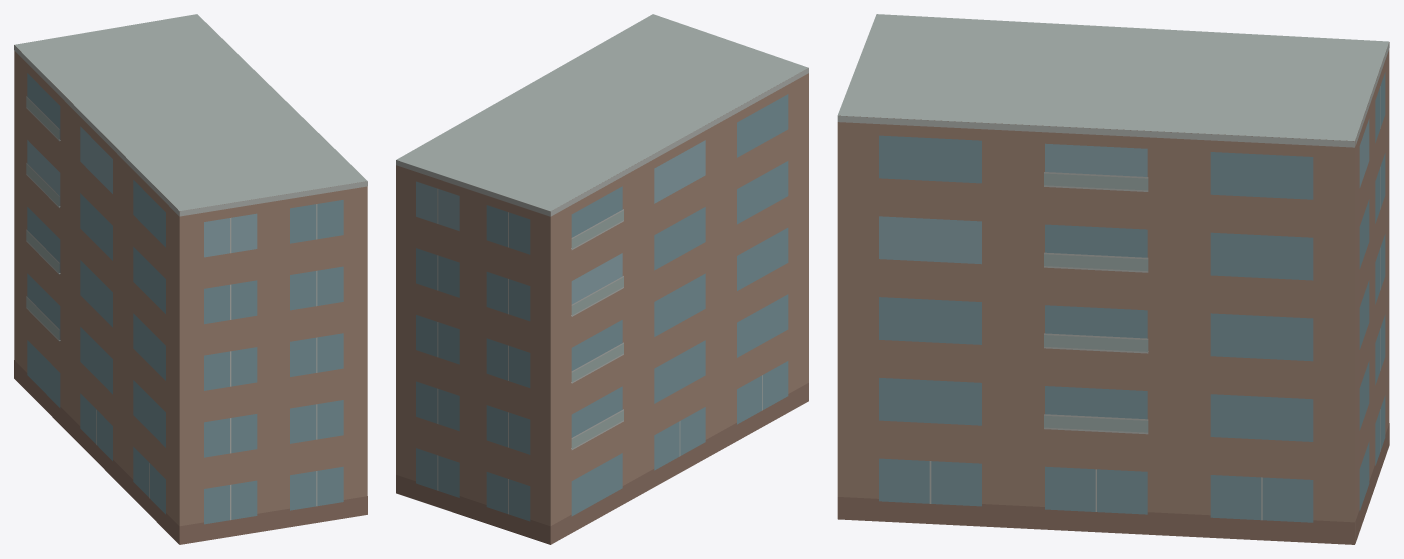
The model's file is survey-upis-32930246.glb.
3 views of the same model, side by side, from view 1: azimuth 30°, elevation 25°; view 2: azimuth 150°, elevation 25°; view 3: azimuth 270°, elevation 25° (orthographic). The views are drawn at different scales.
Visible parts, largest first — view 1: survey-upis-32930246.tmp; view 2: survey-upis-32930246.tmp; view 3: survey-upis-32930246.tmp.
Boxes of the visible parts, box(x1,y1,x2,y2) form: survey-upis-32930246.tmp: box(14, 14, 367, 544); survey-upis-32930246.tmp: box(396, 14, 808, 544); survey-upis-32930246.tmp: box(837, 14, 1389, 544).
Size of the model in its own units: 10.34 by 15.3 by 18.97.
